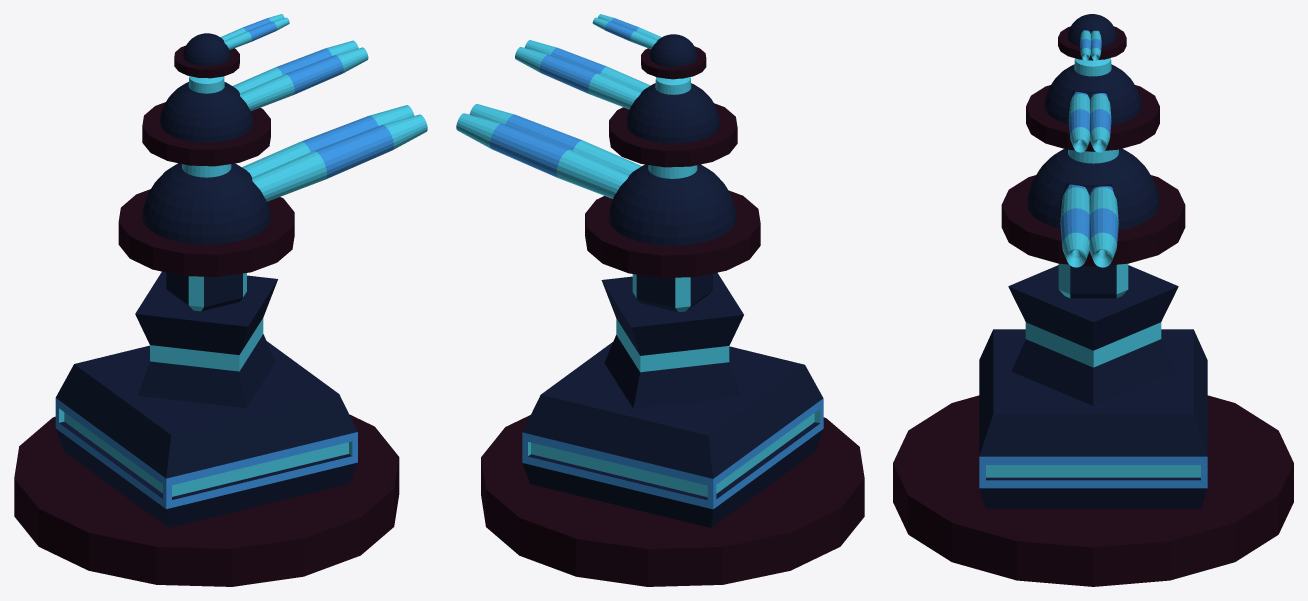
File: HydrogenTurret3.fbx
3 renders of one model, left to right at view 1: azimuth 30°, elevation 25°; view 2: azimuth 150°, elevation 25°; view 3: azimuth 270°, elevation 25°, orthographic. The views are drawn at different scales.
Parts seen in each view (by area): view 1: Cube, Cylinder, Cube.001, Sphere, Cylinder.001, Torus, Sphere.002, Cylinder.003, Torus.005, Torus.001, Cube.002, Torus.004 (+3 smaller); view 2: Cube, Cylinder, Cube.001, Sphere, Cylinder.001, Torus.001, Sphere.002, Cylinder.003, Torus.004, Torus, Cube.002, Torus.005 (+3 smaller); view 3: Cylinder, Cube, Cube.001, Sphere, Cylinder.001, Sphere.002, Cylinder.003, Cube.002, Torus, Torus.001, Torus.004, Torus.005 (+2 smaller).
Part boxes in pixels (<box>): Cube: <box>55,341,357,527</box>; Cylinder: <box>14,414,399,586</box>; Cube.001: <box>135,271,277,407</box>; Sphere: <box>142,163,270,244</box>; Cylinder.001: <box>118,189,294,276</box>; Torus: <box>252,114,427,201</box>; Sphere.002: <box>160,76,253,142</box>; Cylinder.003: <box>142,102,270,166</box>; Torus.005: <box>240,47,368,110</box>; Torus.001: <box>242,105,414,177</box>; Cube.002: <box>166,272,246,311</box>; Torus.004: <box>232,40,358,93</box>; Cube: <box>522,342,823,527</box>; Cylinder: <box>481,415,864,586</box>; Cube.001: <box>601,272,743,408</box>; Sphere: <box>609,164,736,245</box>; Cylinder.001: <box>585,190,760,277</box>; Torus.001: <box>456,113,629,198</box>; Sphere.002: <box>626,77,719,143</box>; Cylinder.003: <box>609,103,737,167</box>; Torus.004: <box>515,47,641,109</box>; Torus: <box>469,104,641,175</box>; Cube.002: <box>632,273,712,312</box>; Torus.005: <box>524,40,650,92</box>; Cylinder: <box>893,395,1293,586</box>; Cube: <box>979,329,1207,508</box>; Cube.001: <box>1008,265,1178,405</box>; Sphere: <box>1027,148,1159,230</box>; Cylinder.001: <box>1001,175,1185,266</box>; Sphere.002: <box>1044,58,1141,125</box>; Cylinder.003: <box>1026,85,1159,151</box>; Cube.002: <box>1058,263,1128,298</box>; Torus: <box>1060,184,1089,267</box>; Torus.001: <box>1089,186,1118,267</box>; Torus.004: <box>1090,93,1111,152</box>; Torus.005: <box>1068,92,1089,152</box>.
Size of the model in its own units: 673 by 804 by 600.
